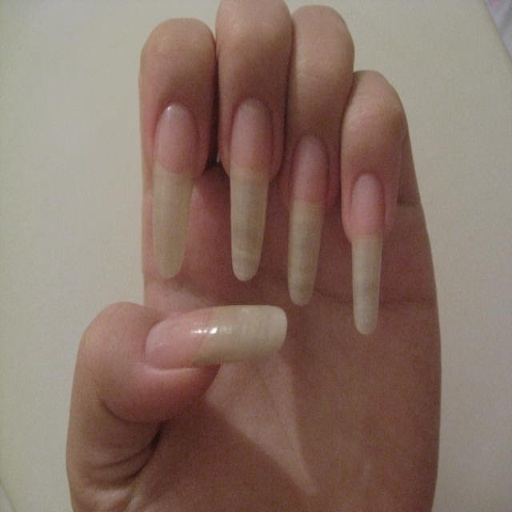hand: (48, 0, 448, 466)
